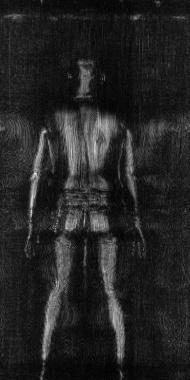gun: (41, 191, 66, 235)
